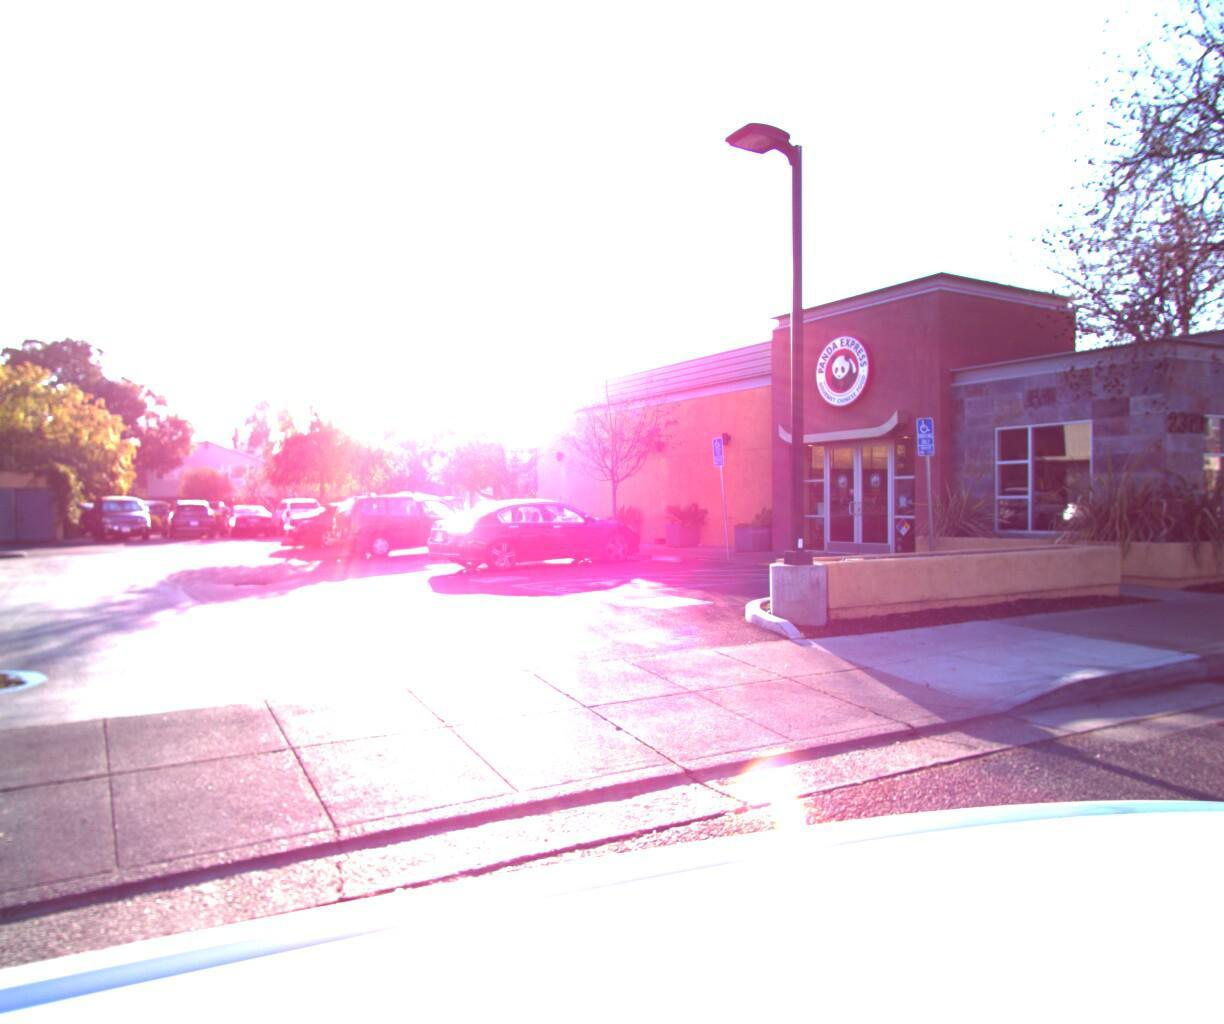car: (408, 495, 476, 528)
